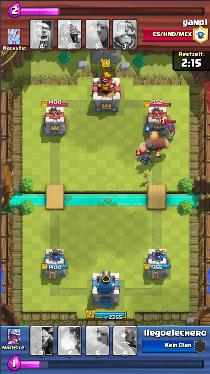ally_giant: (138, 130, 169, 156)
enemy_mini_pekka: (136, 152, 154, 166)
enemy_musketeer: (165, 120, 177, 139)
